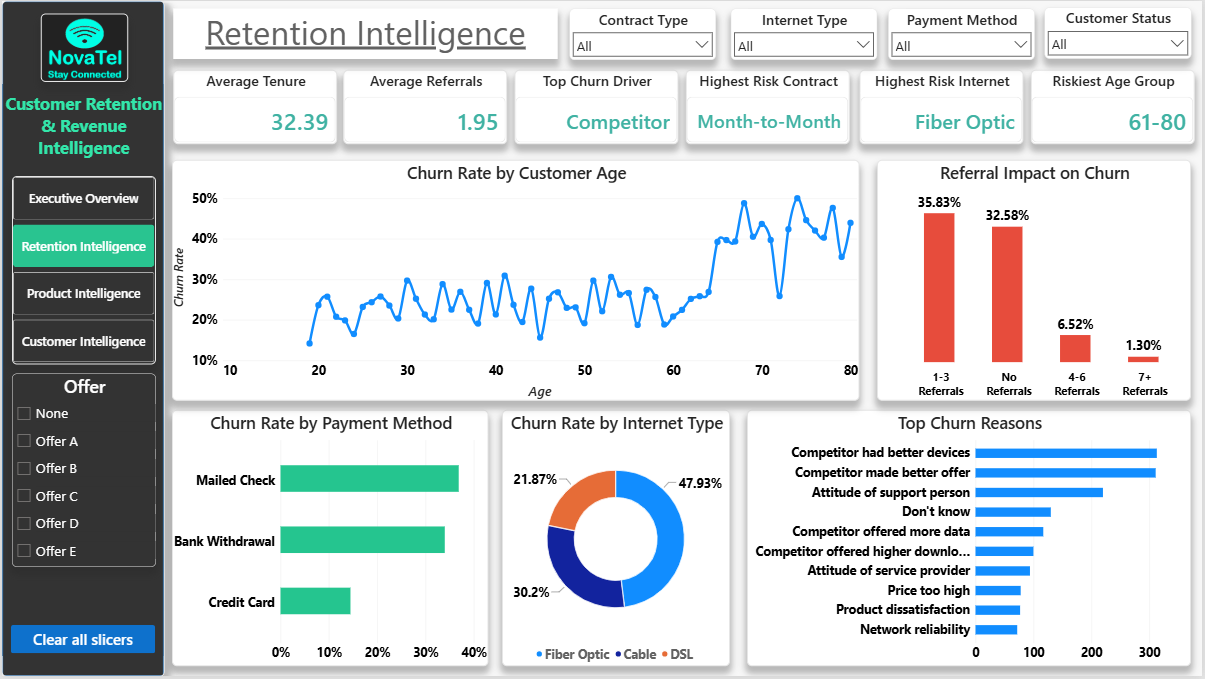

What the dashboard file says about the page in this screenshot:
{"tool":"powerbi","page":{"name":"Retention Intelligence","canvas":[1920,1080],"ordinal":1},"visuals":[{"type":"shape","box":[0,0,259.6,1080.8],"z":0},{"type":"image","box":[61.5,19.2,140.4,109.6],"z":1000},{"type":"textbox","box":[1.9,146.2,257.7,107.7],"z":2000},{"type":"pageNavigator","box":[15.4,280.8,230.8,301.9],"z":3000},{"type":"cardVisual","title":"Average Tenure","fields":{"Data":["Avg(Customer Churn.Tenure in Months)"]},"box":[273,109,262,119],"z":4000},{"type":"cardVisual","title":"Average Referrals","fields":{"Data":["Avg(Customer Churn.Number of Referrals)"]},"box":[545,109,262,119],"z":5000},{"type":"cardVisual","title":"Top Churn Driver","fields":{"Data":["Customer Churn.Top Churn Driver"]},"box":[819,109,262,119],"z":6000},{"type":"cardVisual","title":"Highest Risk Contract","fields":{"Data":["Customer Churn.Highest Churn Contract"]},"box":[1093,109,262,119],"z":7000},{"type":"cardVisual","title":"Highest Risk Internet","fields":{"Data":["Customer Churn.Highest Churn Internet Type"]},"box":[1372,109,262,119],"z":8000},{"type":"cardVisual","title":"Riskiest Age Group","fields":{"Data":["Customer Churn.Highest Risk Age Group"]},"box":[1646,109,262,119],"z":9000},{"type":"donutChart","title":"Churn Rate by Internet Type","fields":{"Category":["Customer Churn.Internet Type"],"Y":["Customer Churn.Churn Rate"]},"box":[800,654.2,364.6,410.4],"z":10000},{"type":"clusteredBarChart","title":"Top Churn Reasons","fields":{"Category":["Customer Churn.Churn Reason"],"Y":["Customer Churn.Churned Customers"]},"box":[1191.7,654.2,710.4,410.4],"z":11000},{"type":"clusteredColumnChart","title":"Referral Impact on Churn","fields":{"Category":["Customer Churn.Referral Group"],"Y":["Customer Churn.Churn Rate"]},"box":[1400,254.2,502.1,385.4],"z":12000},{"type":"clusteredBarChart","title":"Churn Rate by Payment Method","fields":{"Category":["Customer Churn.Payment Method"],"Y":["Customer Churn.Churn Rate"]},"box":[272.9,654.2,506.2,410.4],"z":13000},{"type":"slicer","title":"Contract Type","fields":{"Values":["Customer Churn.Contract"]},"box":[907.7,11.5,234.6,82.7],"z":14000},{"type":"slicer","title":"Internet Type","fields":{"Values":["Customer Churn.Internet Type"]},"box":[1165.4,11.5,234.6,82.7],"z":15000},{"type":"slicer","title":"Payment Method","fields":{"Values":["Customer Churn.Payment Method"]},"box":[1417.3,11.5,234.6,82.7],"z":16000},{"type":"slicer","title":"Customer Status","fields":{"Values":["Customer Churn.Customer Status"]},"box":[1667.3,9.6,235,82],"z":17000},{"type":"slicer","title":"Offer","fields":{"Values":["Customer Churn.Offer"]},"box":[15.4,596.2,230.8,309.6],"z":18000},{"type":"textbox","box":[273.1,11.5,615.4,80.8],"z":19000},{"type":"lineChart","title":"Churn Rate by Customer Age","fields":{"Category":["Customer Churn.Age"],"Y":["Customer Churn.Churn Rate"]},"box":[272.9,254.2,1100,385.4],"z":20000},{"type":"actionButton","title":"Reset","box":[14.6,997.9,231.2,45.8],"z":21000}]}

Visuals, with their boxes in screenshot pixels (x1, y1, x2, y2), scaled from the page's 1920x1080 canvas onto the 1205x679 screenshot:
shape: select_region(0, 0, 163, 678)
image: select_region(39, 12, 127, 81)
textbox: select_region(1, 92, 163, 160)
pageNavigator: select_region(10, 177, 155, 366)
"Average Tenure" cardVisual: select_region(171, 69, 336, 143)
"Average Referrals" cardVisual: select_region(342, 69, 506, 143)
"Top Churn Driver" cardVisual: select_region(514, 69, 678, 143)
"Highest Risk Contract" cardVisual: select_region(686, 69, 850, 143)
"Highest Risk Internet" cardVisual: select_region(861, 69, 1026, 143)
"Riskiest Age Group" cardVisual: select_region(1033, 69, 1197, 143)
"Churn Rate by Internet Type" donutChart: select_region(502, 411, 731, 669)
"Top Churn Reasons" clusteredBarChart: select_region(748, 411, 1194, 669)
"Referral Impact on Churn" clusteredColumnChart: select_region(879, 160, 1194, 402)
"Churn Rate by Payment Method" clusteredBarChart: select_region(171, 411, 489, 669)
"Contract Type" slicer: select_region(570, 7, 717, 59)
"Internet Type" slicer: select_region(731, 7, 879, 59)
"Payment Method" slicer: select_region(890, 7, 1037, 59)
"Customer Status" slicer: select_region(1046, 6, 1194, 58)
"Offer" slicer: select_region(10, 375, 155, 569)
textbox: select_region(171, 7, 558, 58)
"Churn Rate by Customer Age" lineChart: select_region(171, 160, 862, 402)
"Reset" actionButton: select_region(9, 627, 154, 656)
